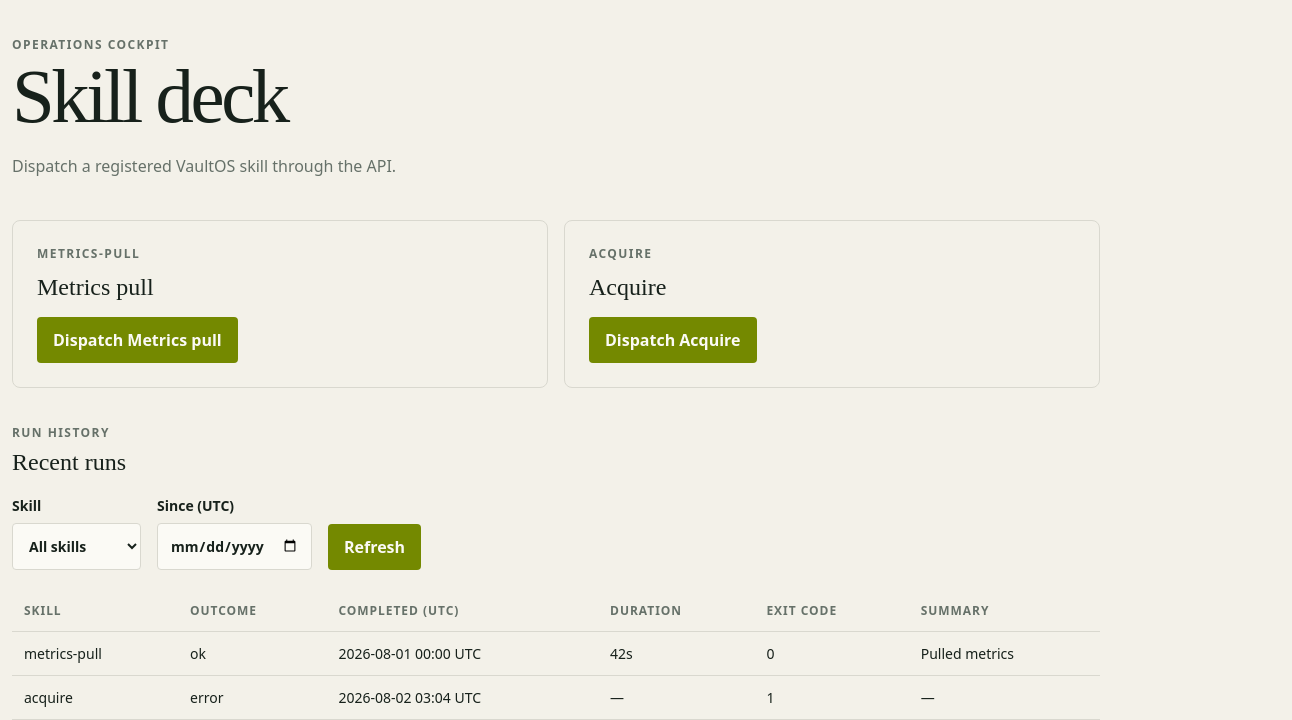
Run history panel › requests the registered skill and shows only its runs; All skills omits the parameter
The width and height of the screenshot is (1292, 720).
Expected: the number of rows is 3, [12, 590, 1100, 631]; [12, 631, 1100, 675]; [12, 675, 1100, 719]
Select "Metrics pull" in the dropdown labelled "Skill" at [76, 546], box [12, 522, 141, 570]
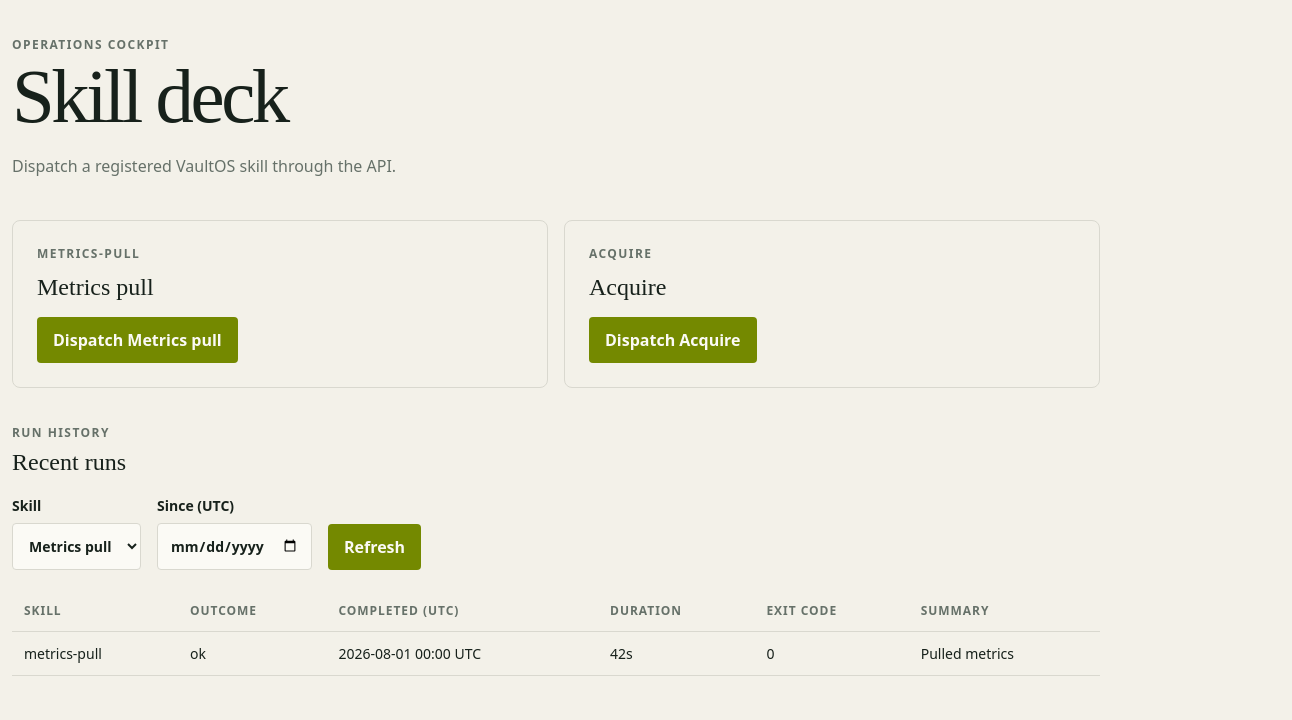
Expected: the text "metrics-pull" is shown, [12, 631, 178, 675]
Now the number of rows is 2, box [12, 590, 1100, 631]; [12, 631, 1100, 675]
